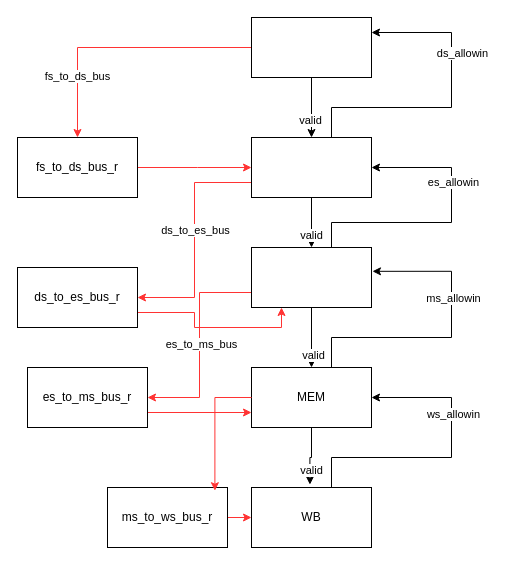
Some shapes in this 505 by 565 pixel diagram are drawn without their labels. Here are the shapes that lost their labels. From the top down, the centre of each, then its label:
the point at 311,47: IF
the point at 311,167: ID
the point at 311,277: EXE
